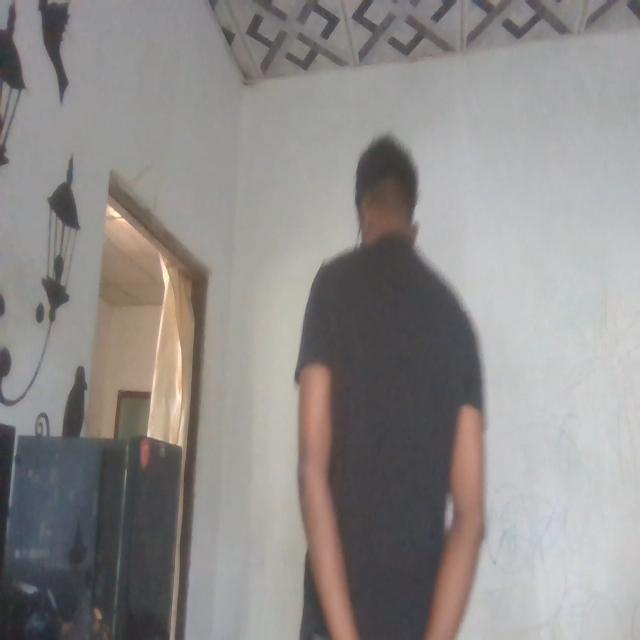Person: (294, 127, 482, 640)
